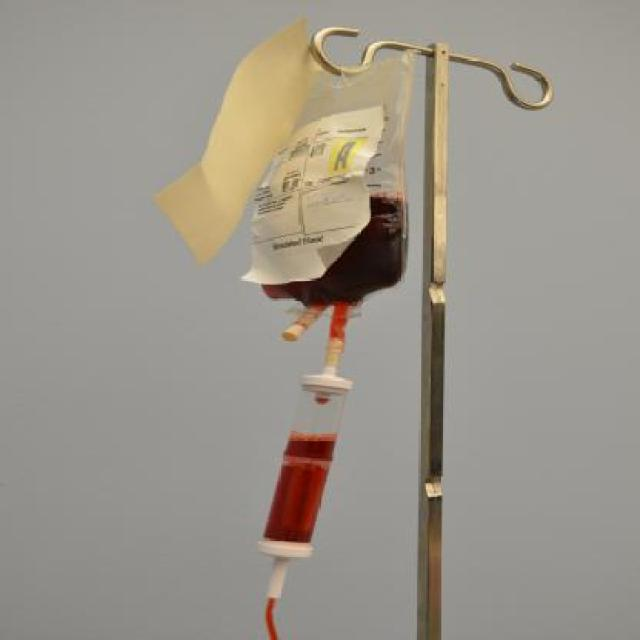B3: (211, 51, 426, 344)
